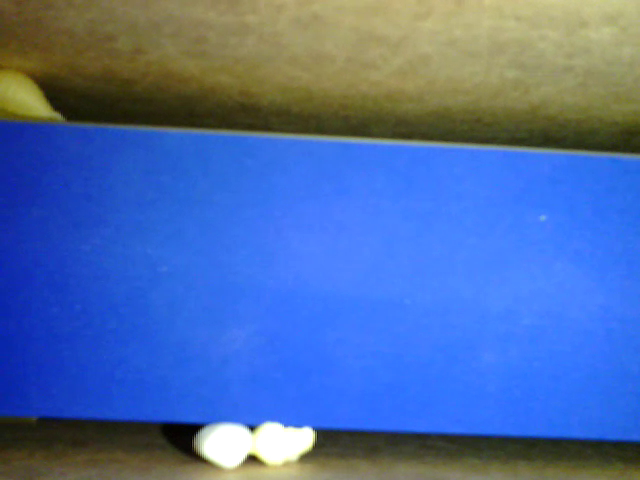shell: (3, 63, 72, 120)
